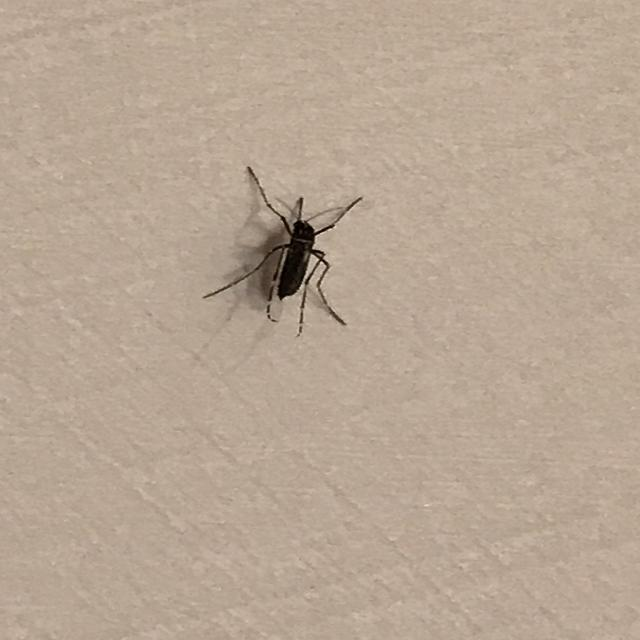albopictus: (196, 160, 368, 339)
